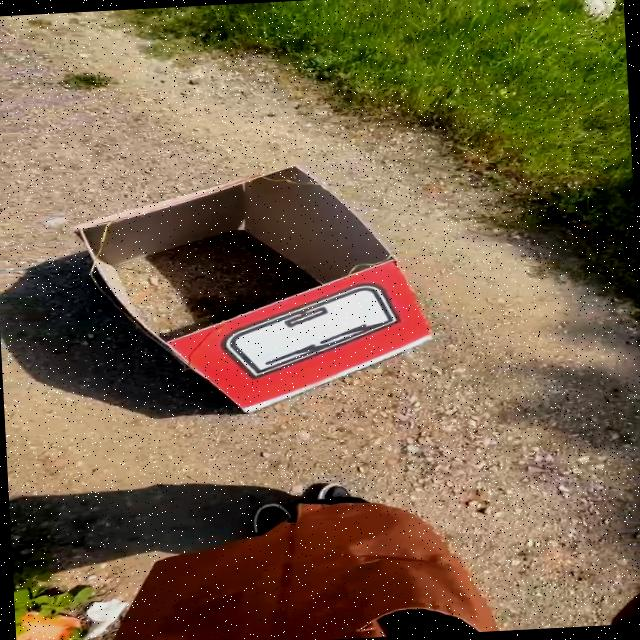red_car: (15, 132, 466, 434)
